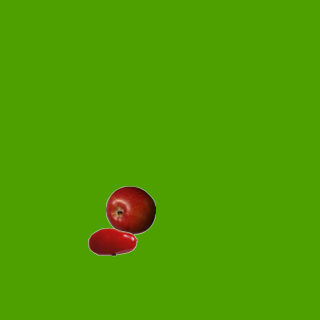Apple Braeburn: (105, 185, 155, 235)
Tomato 2: (87, 216, 137, 266)
